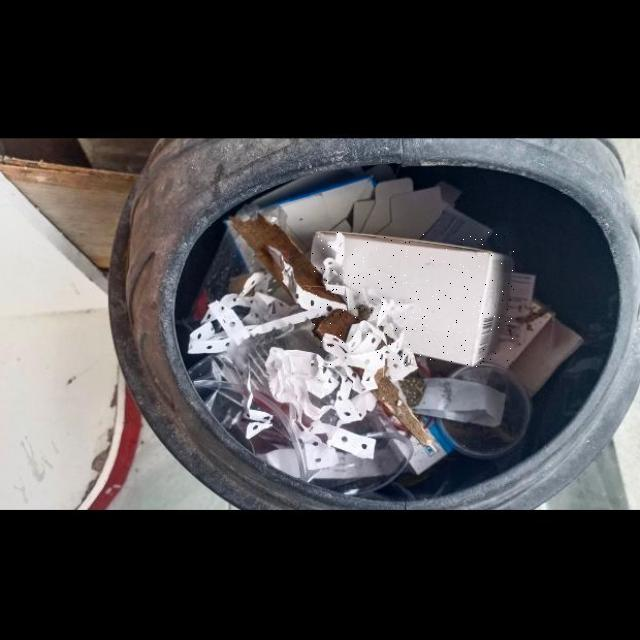paper: (311, 232, 514, 367)
